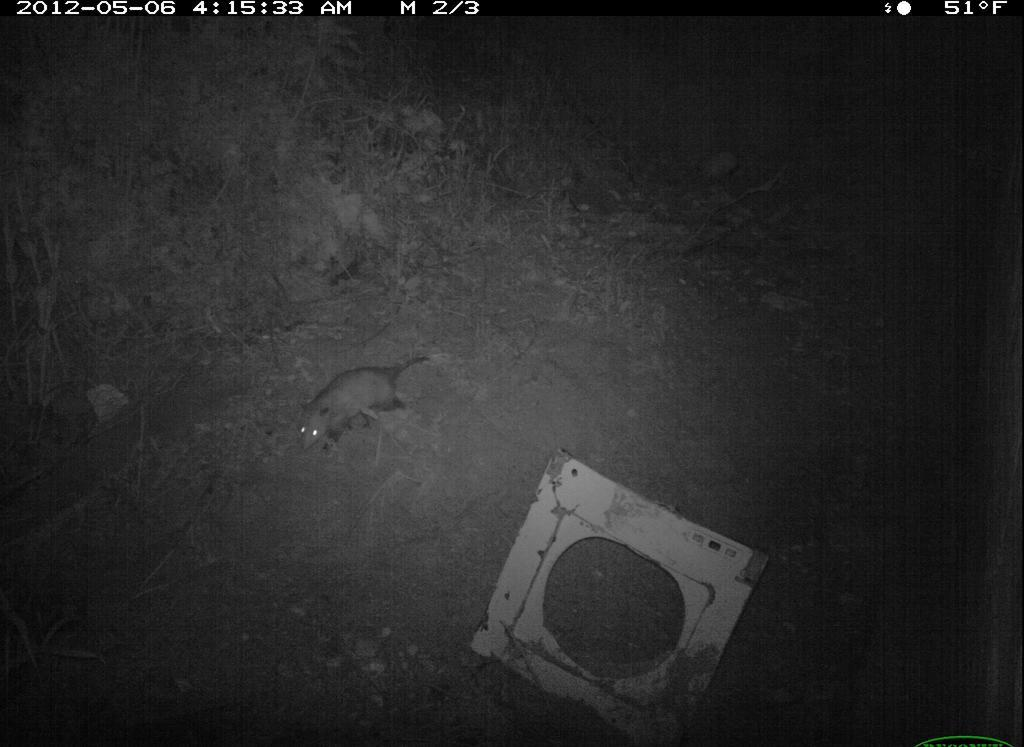opossum: (290, 351, 436, 469)
